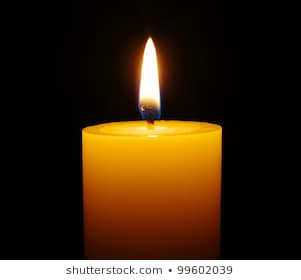Fire: (137, 31, 162, 127)
